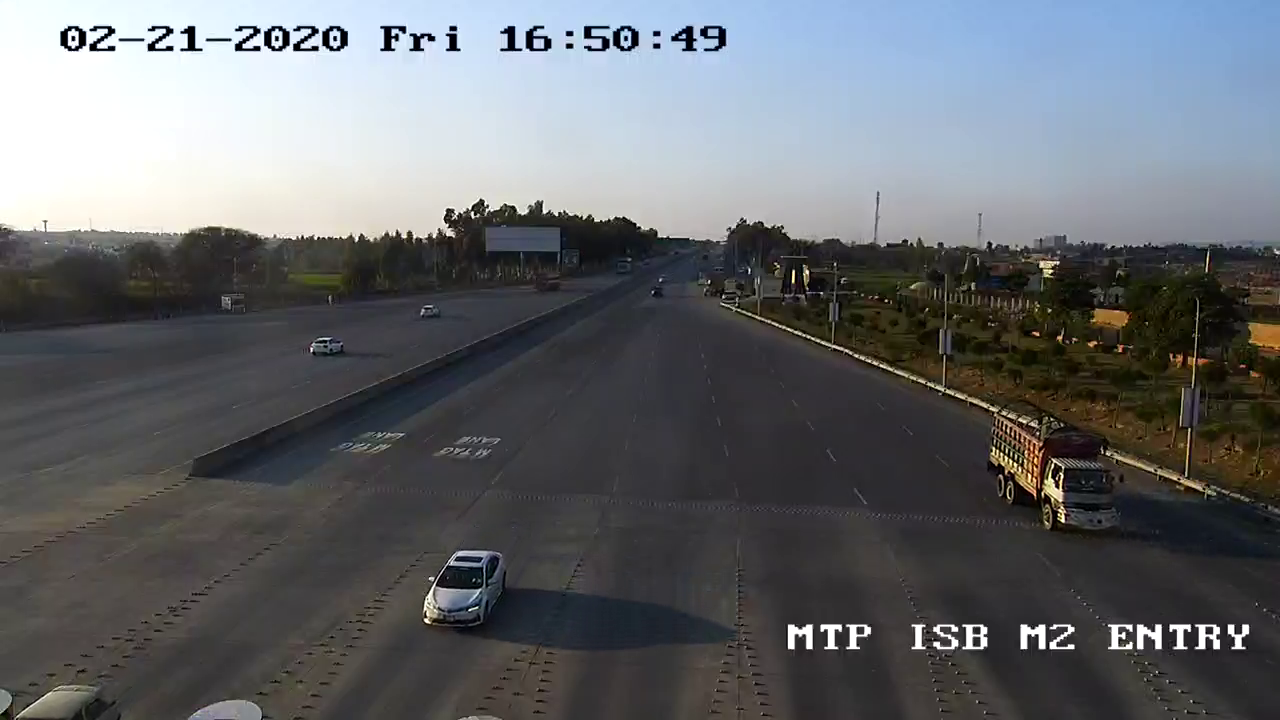f1: (415, 539, 514, 641)
f5: (982, 392, 1131, 548)
